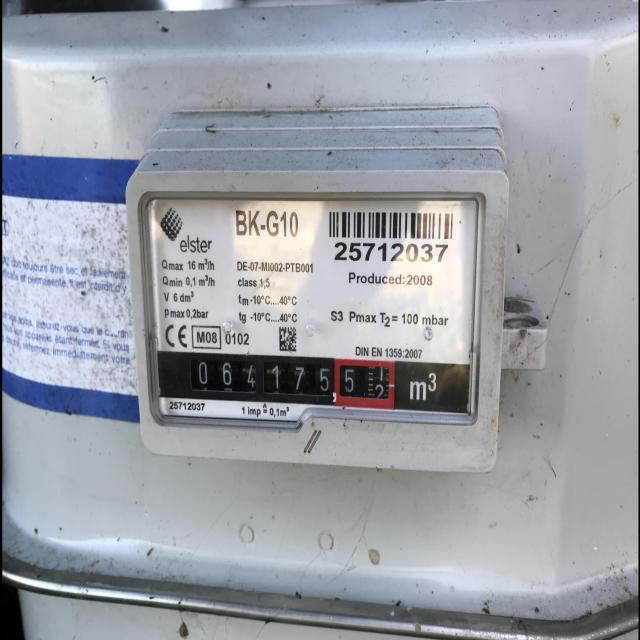gaz_meter: (138, 191, 480, 424)
indication: (157, 350, 395, 410)
